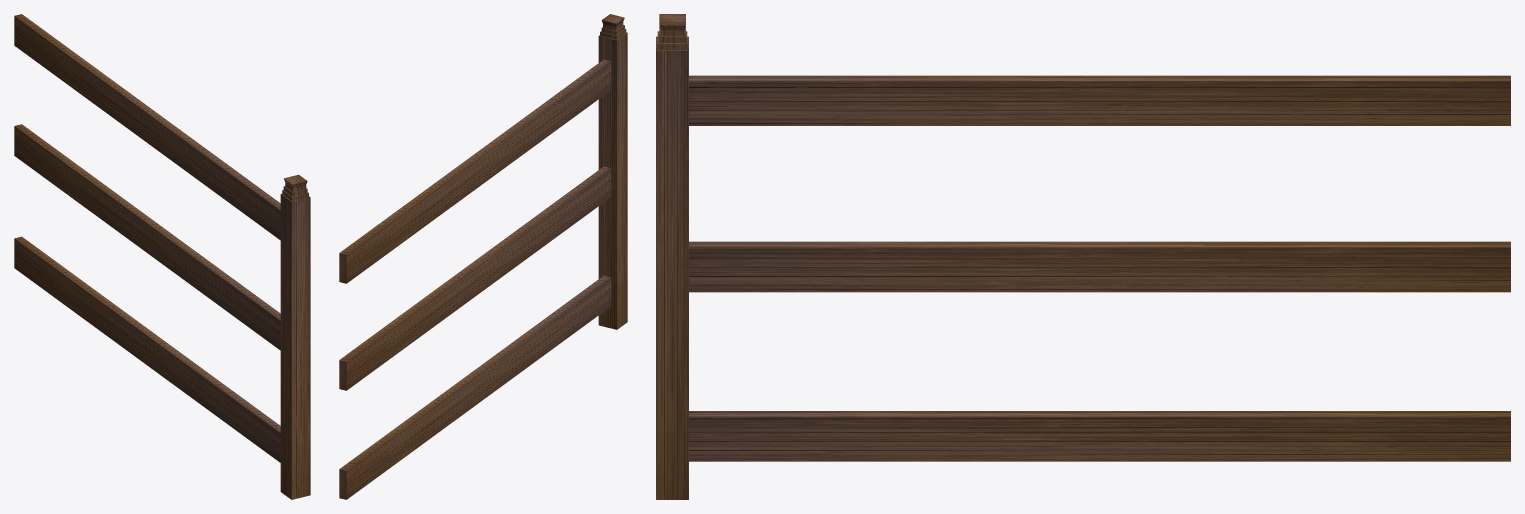
The model's file is FencewithoutPolemitTexture.fbx.
The picture shows the model from 3 angles, left to right: view 1: azimuth 30°, elevation 25°; view 2: azimuth 150°, elevation 25°; view 3: azimuth 270°, elevation 25°; orthographic projection. The views are drawn at different scales.
Visible parts, largest first — view 1: Box004, Box002, Box003, Box005; view 2: Box002, Box003, Box004, Box005; view 3: Box004, Box002, Box003, Box005.
Boxes of the visible parts, bbox=[...] form: Box004: bbox=[14, 124, 280, 350]; Box002: bbox=[14, 14, 280, 240]; Box003: bbox=[14, 236, 280, 462]; Box005: bbox=[280, 174, 310, 499]; Box002: bbox=[339, 59, 611, 283]; Box003: bbox=[339, 275, 611, 499]; Box004: bbox=[339, 166, 611, 390]; Box005: bbox=[598, 14, 627, 329]; Box004: bbox=[689, 241, 1510, 292]; Box002: bbox=[689, 75, 1510, 125]; Box003: bbox=[689, 411, 1510, 461]; Box005: bbox=[656, 14, 688, 499].
Bounding box in the file's own units: 10 × 158 × 259.
Materials: 1 (1 with a texture image).
